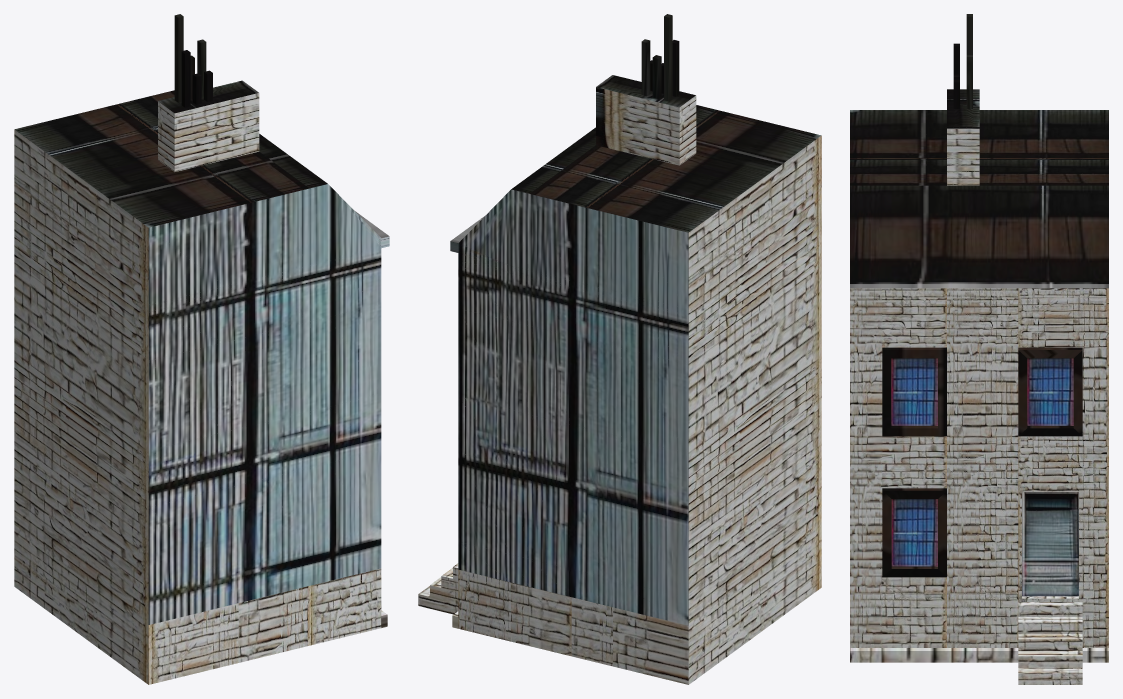
File: quick building occupied.glb
The picture shows the model from 3 angles, left to right: view 1: azimuth 30°, elevation 25°; view 2: azimuth 150°, elevation 25°; view 3: azimuth 270°, elevation 25°; orthographic projection. The views are drawn at different scales.
Visible parts, largest first — view 1: Cube; view 2: Cube; view 3: Cube.
Boxes of the visible parts, x1=… form: Cube: x1=14, y1=14, x2=389, y2=684; Cube: x1=418, y1=14, x2=821, y2=684; Cube: x1=850, y1=14, x2=1108, y2=684.
Size of the model in its own units: 24.65 by 49.33 by 20.
1 material, 1 textured.
